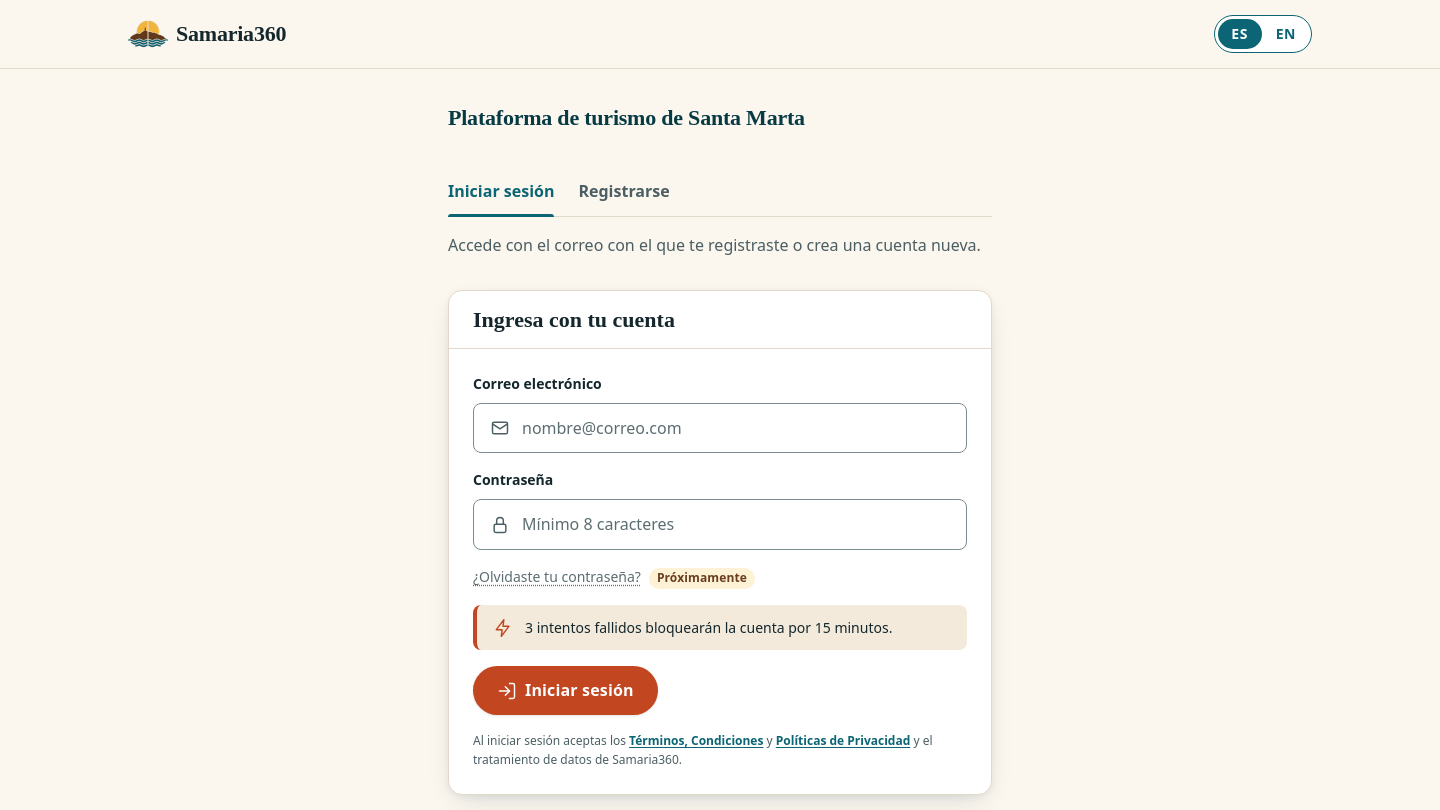
Scenario: Cambio de idioma (RF03, RNF08) › traduce los textos y conserva el correo escrito
Type "turista@samaria360.test" into the field labelled "Correo electrónico" at {"x": 736, "y": 428}, box [522,404,950,452]
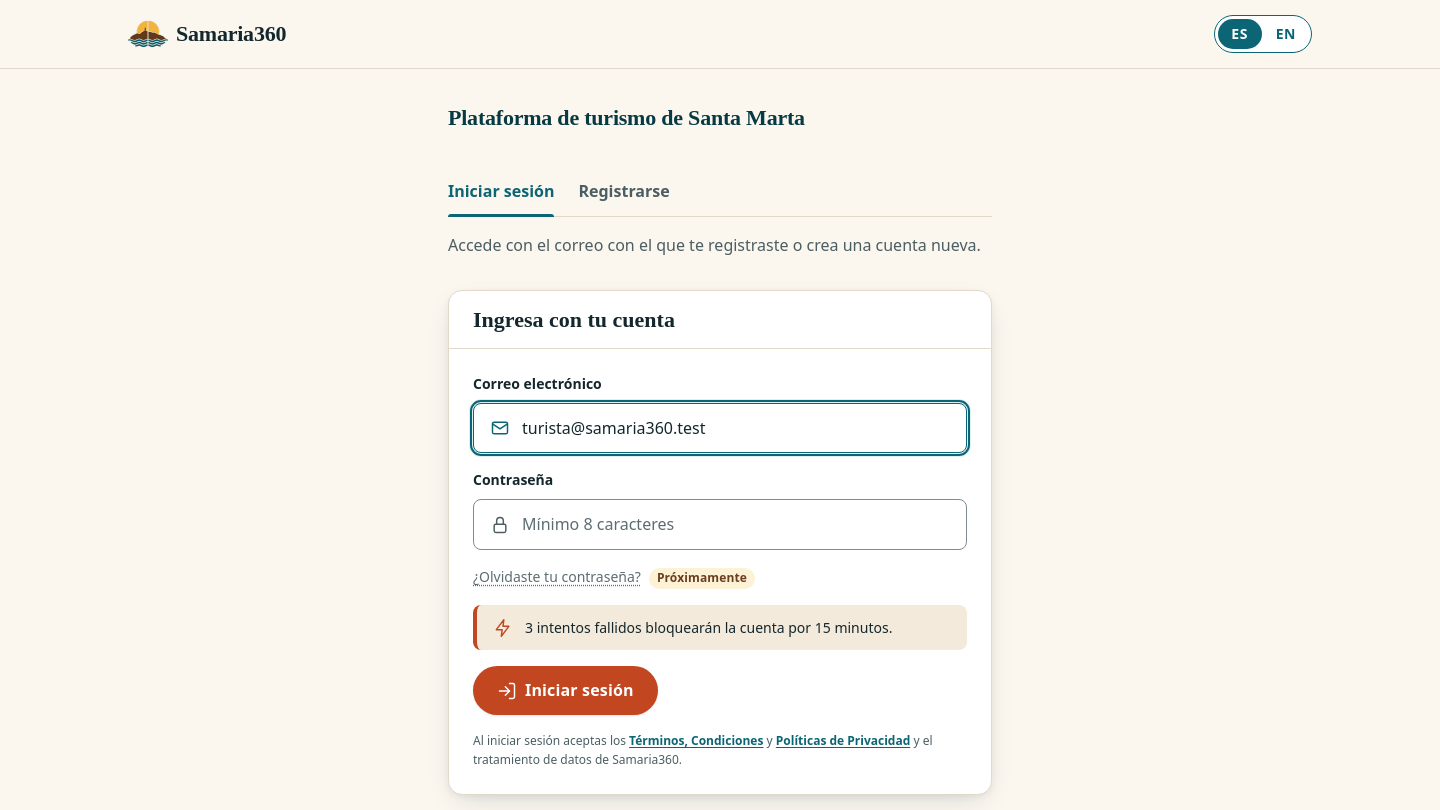
Click the button with aria-label "Inglés" at {"x": 1286, "y": 34}, box [1264,19,1308,49]
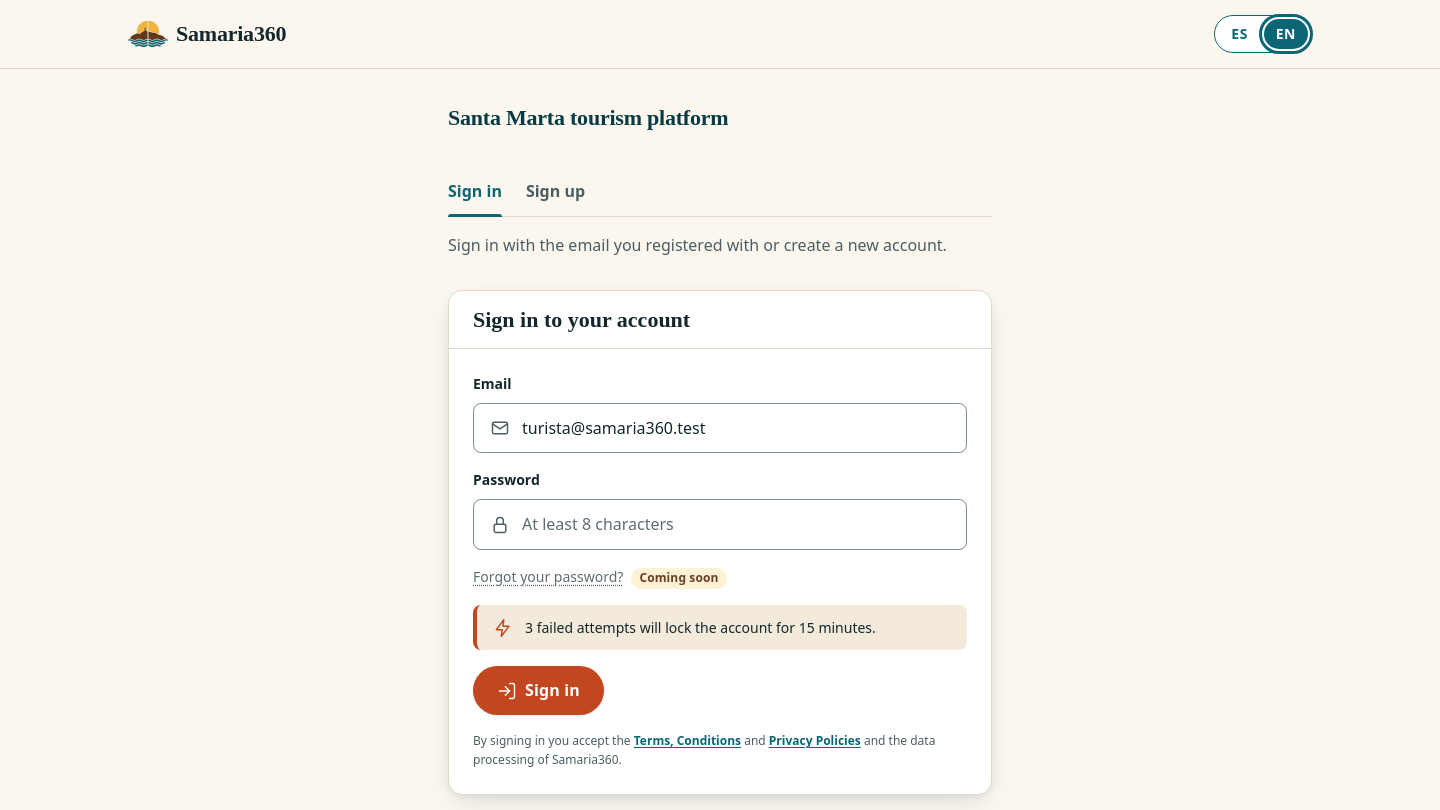
expect the password field labelled "Password" is shown: met, box [522,500,950,549]
expect the button "Sign in" is shown: met, box [473,666,604,715]
